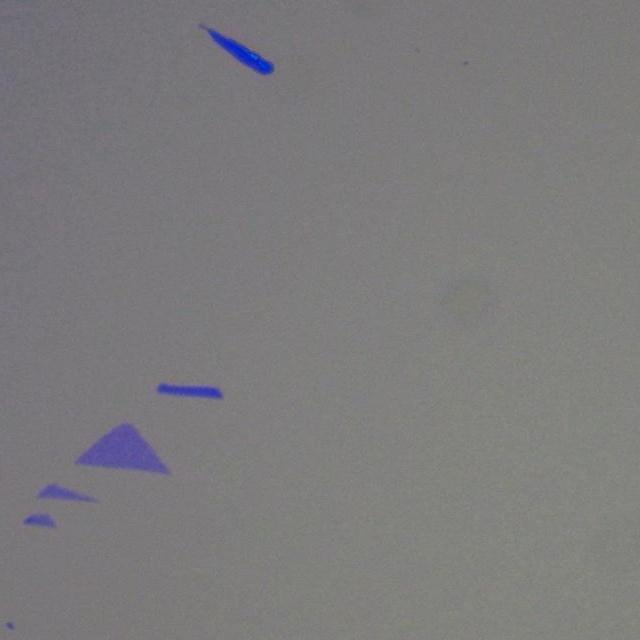monolayer-eWW4: (74, 419, 171, 478), (38, 480, 96, 504), (31, 514, 57, 530)
